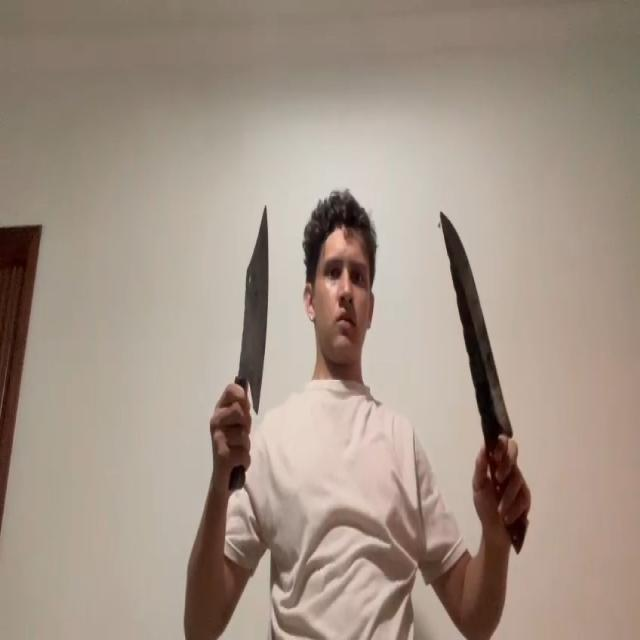knife: (440, 212, 510, 436), (238, 208, 270, 414)
